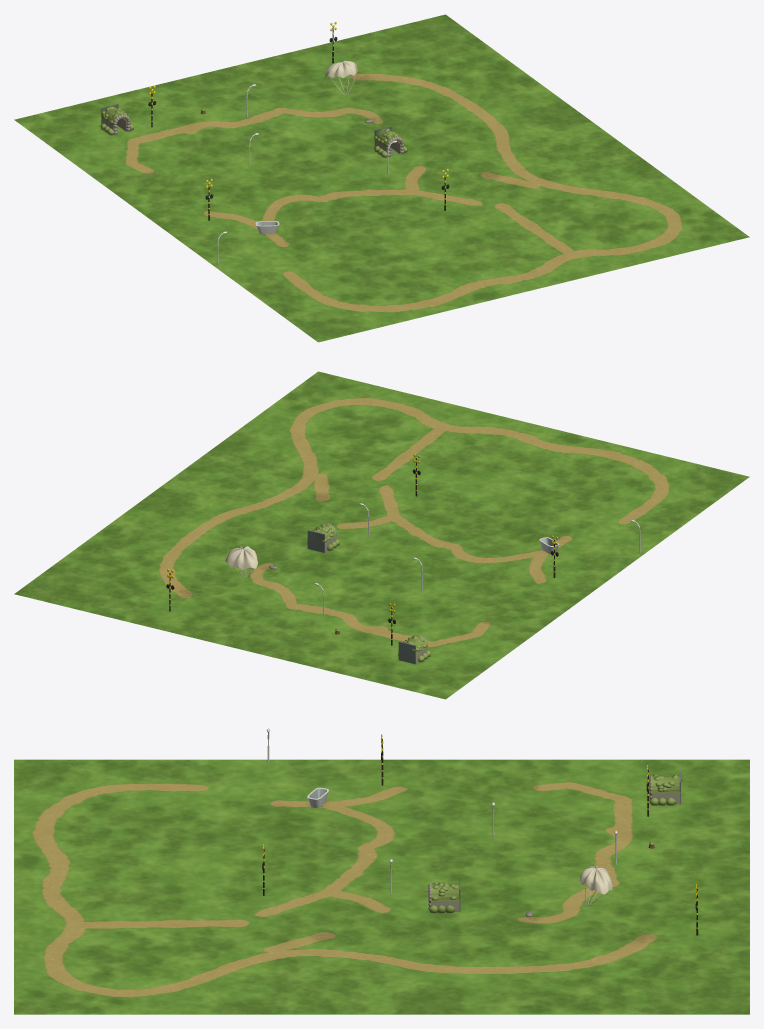
The model's file is terrain-props.glb.
3 views of the same model, one above another, from view 1: azimuth 30°, elevation 25°; view 2: azimuth 150°, elevation 25°; view 3: azimuth 270°, elevation 25° (orthographic). The views are drawn at different scales.
Visible parts, largest first — view 1: hm03_ground_support, hm03_fixed_landmarks; view 2: hm03_ground_support, hm03_fixed_landmarks; view 3: hm03_ground_support, hm03_fixed_landmarks.
Part boxes in pixels (bbox=[...]): hm03_ground_support: bbox=[14, 14, 749, 342]; hm03_fixed_landmarks: bbox=[100, 21, 449, 264]; hm03_ground_support: bbox=[14, 371, 749, 699]; hm03_fixed_landmarks: bbox=[166, 454, 640, 664]; hm03_ground_support: bbox=[14, 759, 749, 1014]; hm03_fixed_landmarks: bbox=[262, 728, 698, 935].
Bounding box in the file's own units: 64 × 5.98 × 78.13.
Materials: 2 (1 with a texture image).
